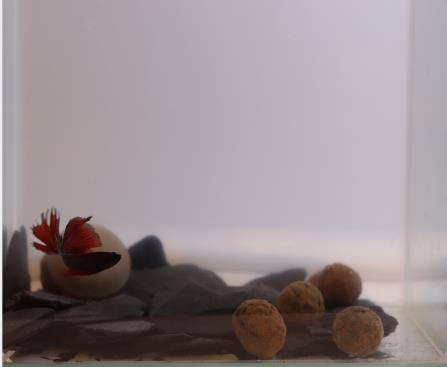fish: (26, 207, 125, 277)
